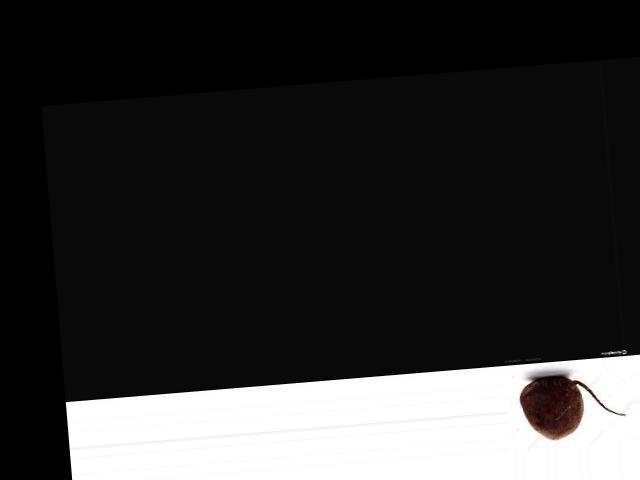beet: (517, 370, 626, 441)
